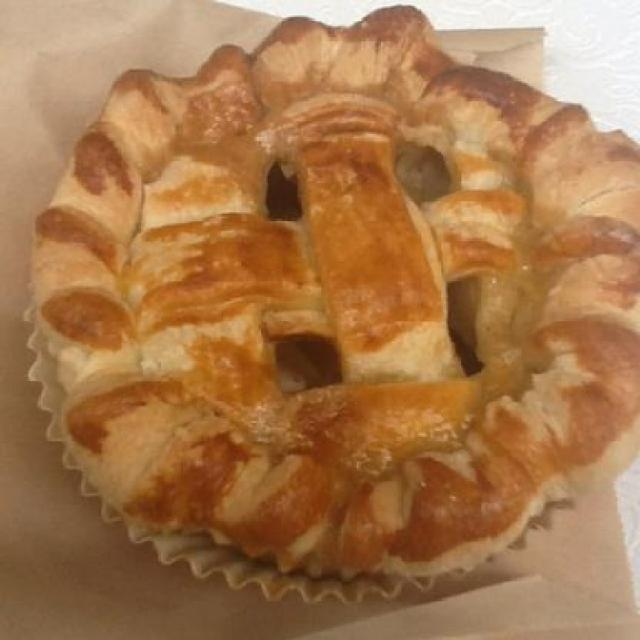Apple: (50, 44, 639, 553)
